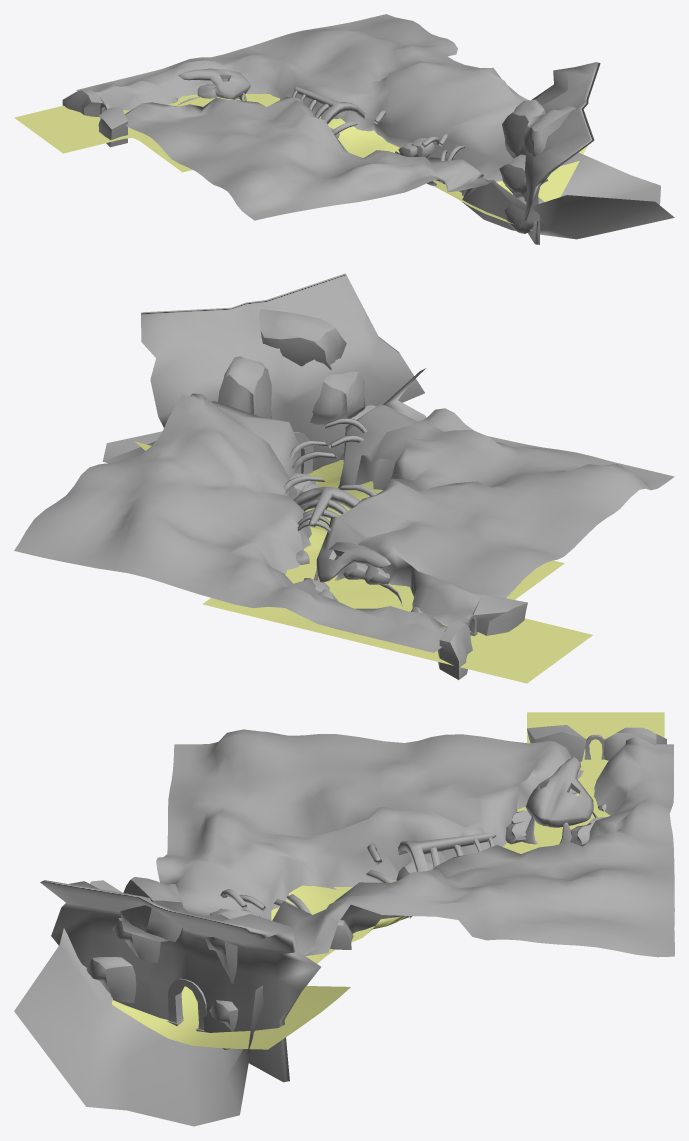
The picture shows the model from 3 angles, top to bottom: view 1: azimuth 30°, elevation 25°; view 2: azimuth 150°, elevation 25°; view 3: azimuth 270°, elevation 25°; orthographic projection. The views are drawn at different scales.
Visible parts, largest first — view 1: pPlane1, pPlane3, pCube8, pCube25, pCube31, pCube32, pCube9, pCube10, pCube29, pCube15, pCube30; view 2: pPlane1, pCube8, pPlane3, pCube32, pCube31, pCube29, pCube25, pCube9, pCube10, pCube15; view 3: pPlane1, pCube8, pPlane3, pCube25, pCube32, pCube30, pCube15, pCube9, pCube4, pCube31, pCube10, pCube29.
Boxes of the visible parts, <box> form: pPlane1: <box>76,14,674,239</box>; pPlane3: <box>14,93,587,230</box>; pCube8: <box>513,62,600,244</box>; pCube25: <box>177,68,250,105</box>; pCube31: <box>502,99,545,158</box>; pCube32: <box>523,106,576,156</box>; pCube9: <box>98,107,127,147</box>; pCube10: <box>62,89,105,116</box>; pCube29: <box>499,154,526,194</box>; pCube15: <box>294,87,365,123</box>; pCube30: <box>504,196,544,233</box>; pPlane1: <box>14,368,674,652</box>; pCube8: <box>141,273,424,470</box>; pPlane3: <box>134,441,592,683</box>; pCube32: <box>258,309,346,369</box>; pCube31: <box>218,356,271,418</box>; pCube29: <box>310,371,365,424</box>; pCube25: <box>314,542,402,606</box>; pCube9: <box>469,596,527,635</box>; pCube10: <box>437,619,472,679</box>; pCube15: <box>293,486,359,527</box>; pPlane1: <box>14,729,674,1126</box>; pCube8: <box>40,880,320,1082</box>; pPlane3: <box>111,712,664,1049</box>; pCube25: <box>522,757,597,844</box>; pCube32: <box>120,877,182,941</box>; pCube30: <box>86,957,136,1002</box>; pCube15: <box>398,832,495,871</box>; pCube9: <box>527,725,586,761</box>; pCube4: <box>167,978,207,1032</box>; pCube31: <box>206,908,259,983</box>; pCube10: <box>603,727,666,760</box>; pCube29: <box>112,918,160,962</box>.
Bounding box in the file's own units: 3613 × 907 × 3082.
